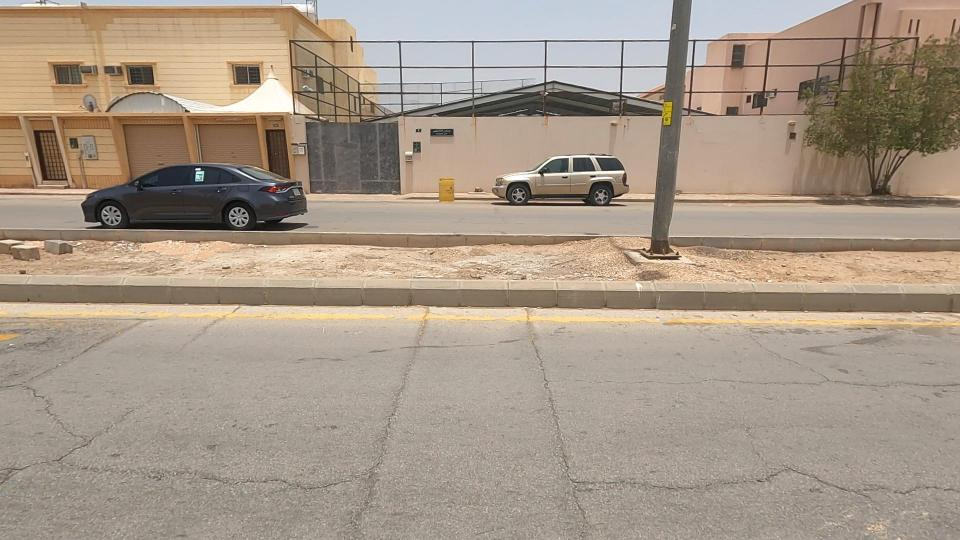CLUTTER_SIDEWALK: (196, 194, 658, 336), (0, 195, 372, 317), (605, 198, 960, 316)
